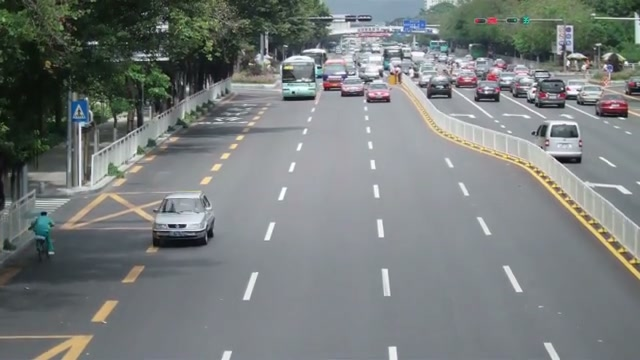bus: (281, 55, 316, 100)
car: (151, 191, 216, 247), (530, 119, 584, 163), (531, 79, 568, 109), (322, 60, 349, 91), (595, 94, 629, 118), (365, 81, 392, 103), (427, 77, 453, 99), (511, 76, 535, 98), (474, 82, 500, 102), (340, 76, 365, 96), (576, 86, 602, 105), (455, 72, 478, 88), (498, 72, 517, 89), (624, 77, 640, 94)
motorcycle: (32, 232, 54, 263)
pedestrian: (29, 210, 55, 256)
